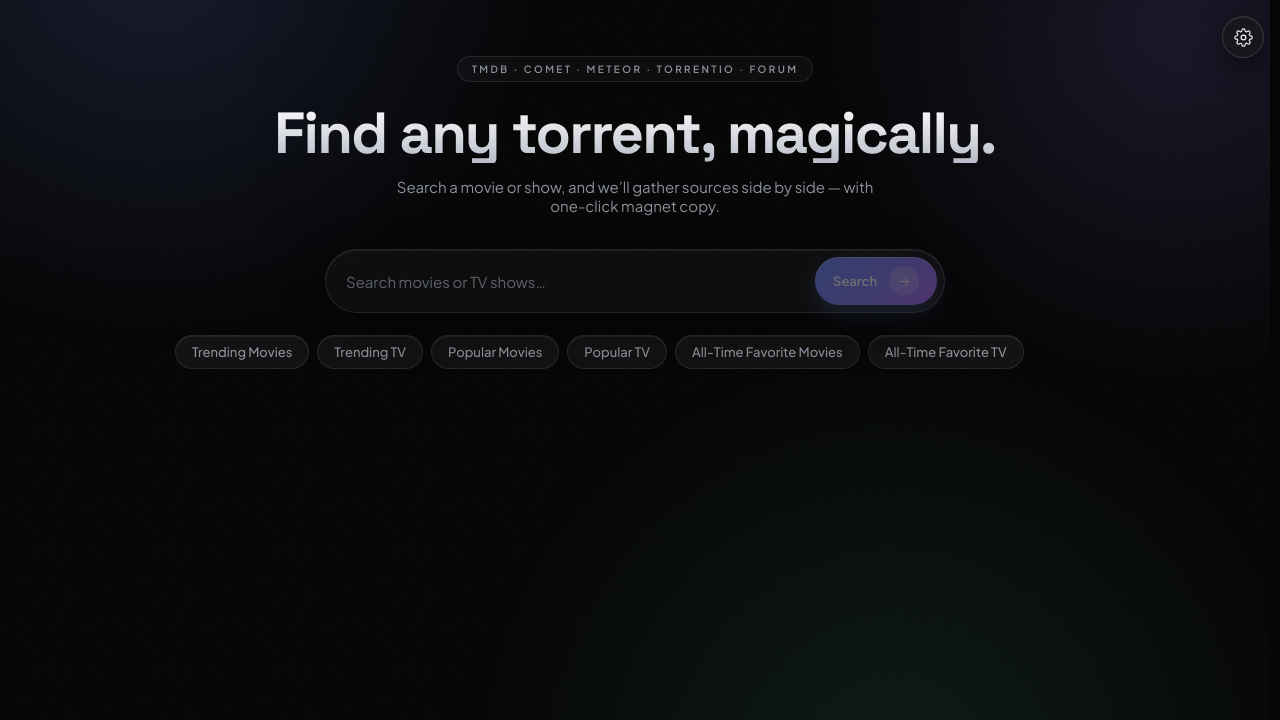
Scenario: App — Discover-to-streams flow › each torrent source fetches and resolves independently (progressive per-tab)
Click the tab "Trending Movies": (242, 352) [175,335,309,369]
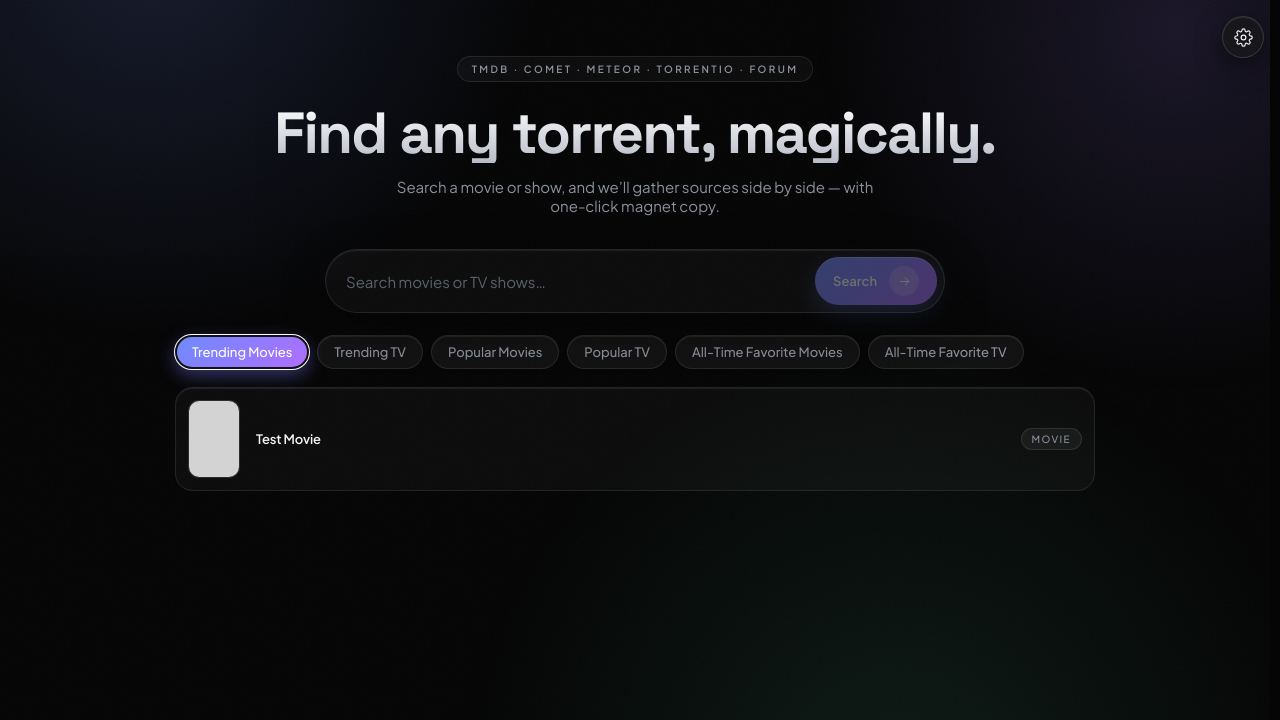
Now the text "Test Movie" is shown
Click the text "Test Movie": (288, 439) [256,431,321,447]
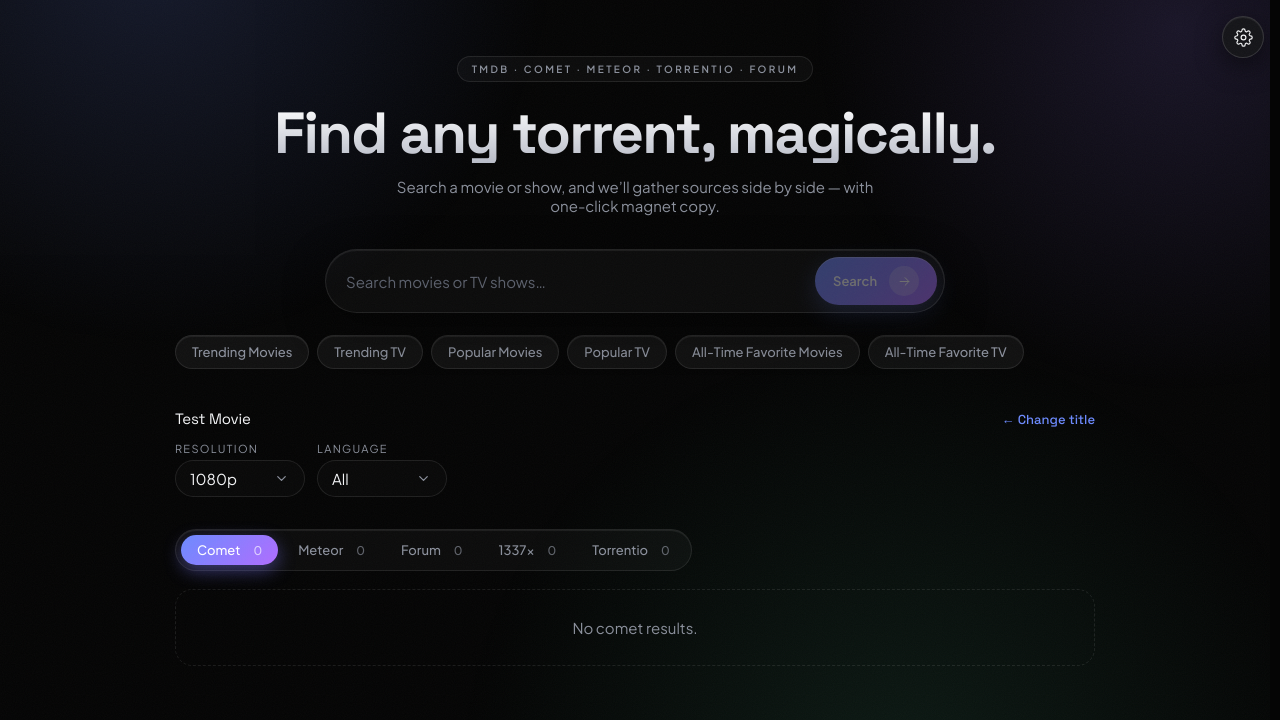
Now the tab "Torrentio 0" is shown, box [576,535,686,565]
Now the text "fetching comet" is shown, box [175,589,1095,666]
